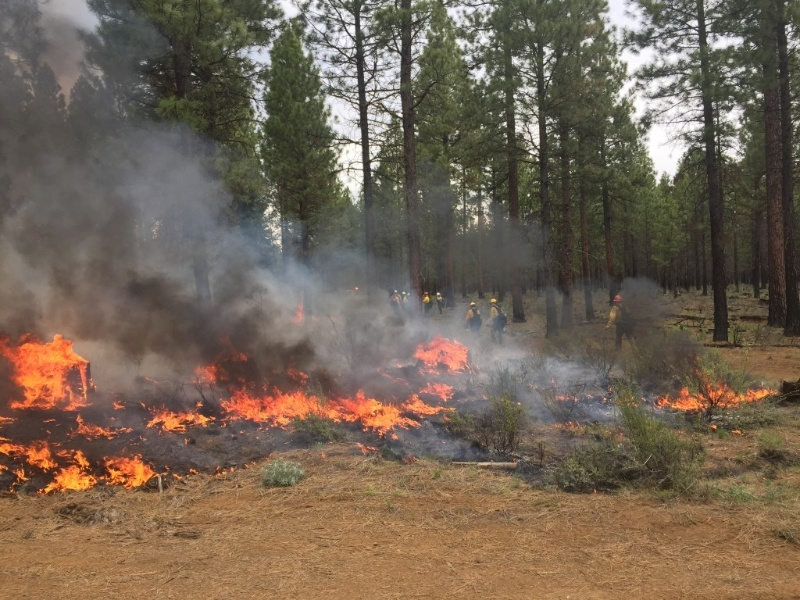smoke: (2, 54, 397, 420)
